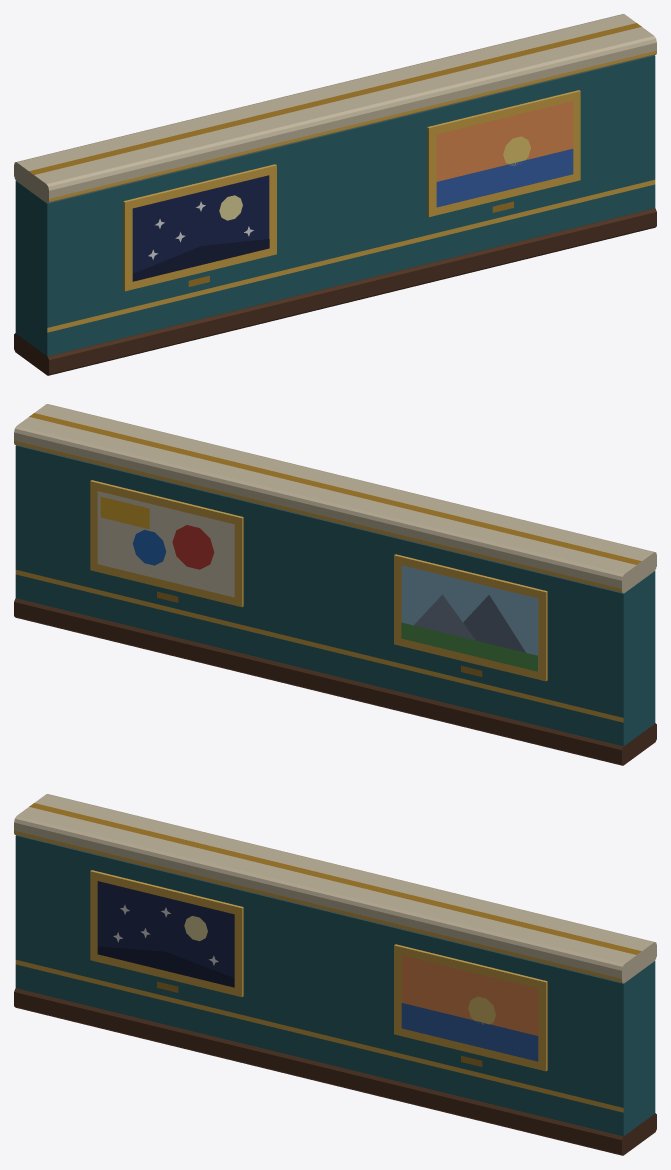
File: museum-wall2.glb
3 views of the same model, one above another, from view 1: azimuth 30°, elevation 25°; view 2: azimuth 150°, elevation 25°; view 3: azimuth 330°, elevation 25° (orthographic).
Visible parts, largest first — view 1: museum-wall2; view 2: museum-wall2; view 3: museum-wall2.
Part boxes in pixels (box(x1,y1,x2,y2)): museum-wall2: box(14, 14, 656, 375); museum-wall2: box(14, 404, 656, 765); museum-wall2: box(14, 794, 656, 1155).
Bounding box in the file's own units: 4 × 1.2 × 0.402.
